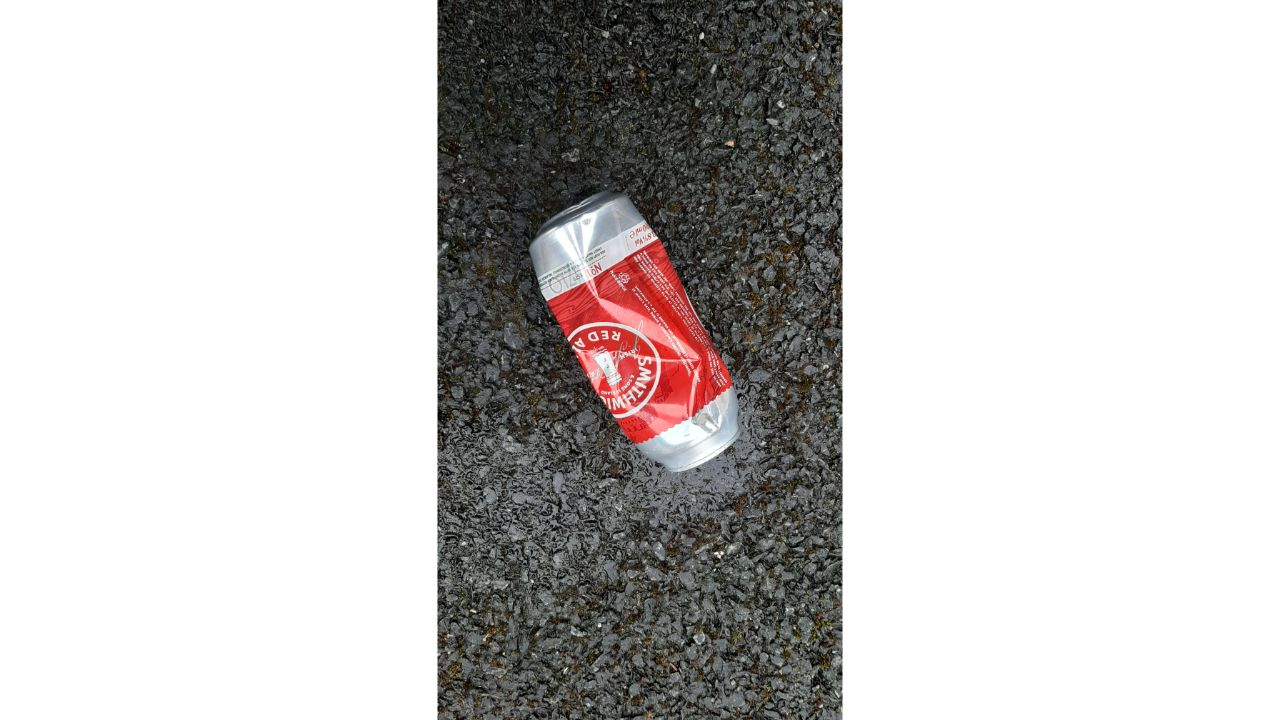Can: (530, 183, 742, 475)
